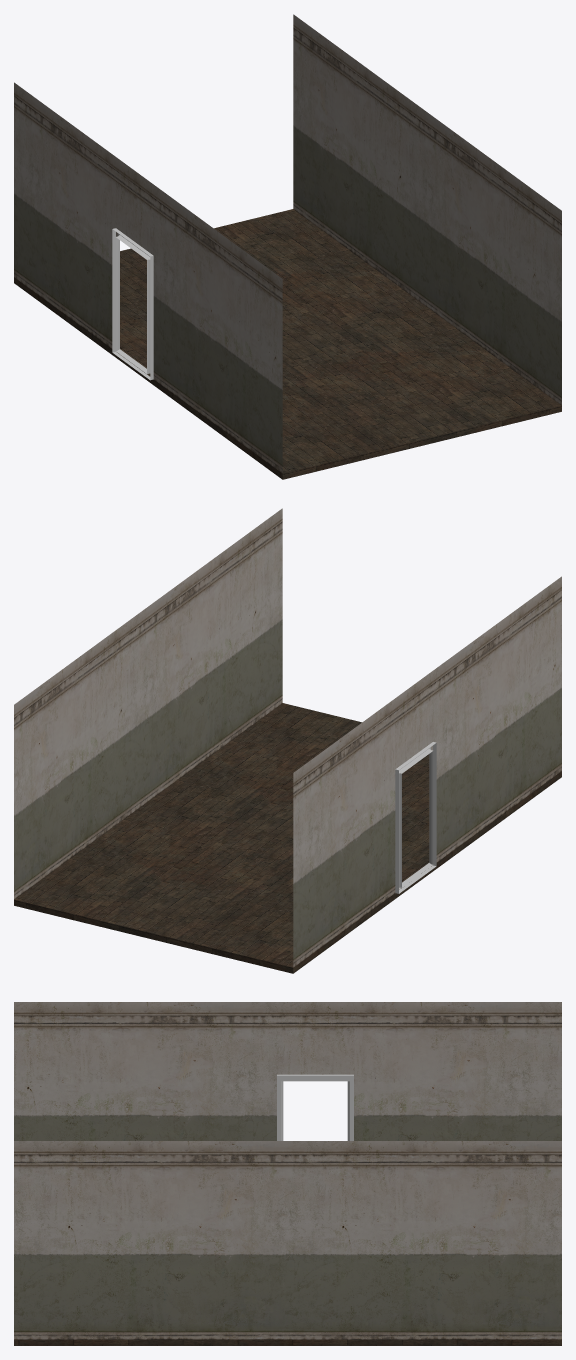
File: hallway_finished_10m_door_right.fbx
3 renders of one model, top to bottom at view 1: azimuth 30°, elevation 25°; view 2: azimuth 150°, elevation 25°; view 3: azimuth 270°, elevation 25°, orthographic.
Parts seen in each view (by area): view 1: hallway_finished_10m_door_right; view 2: hallway_finished_10m_door_right; view 3: hallway_finished_10m_door_right.
Boxes of the visible parts, bbox=[...] form: hallway_finished_10m_door_right: bbox=[14, 14, 561, 479]; hallway_finished_10m_door_right: bbox=[14, 508, 561, 973]; hallway_finished_10m_door_right: bbox=[14, 1002, 561, 1345].
Size of the model in its own units: 608 by 412 by 1000.
